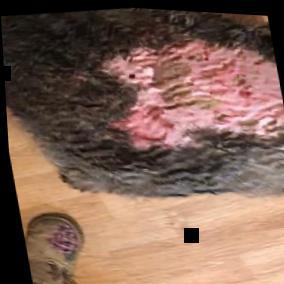skin_lesions: (92, 25, 284, 168)
